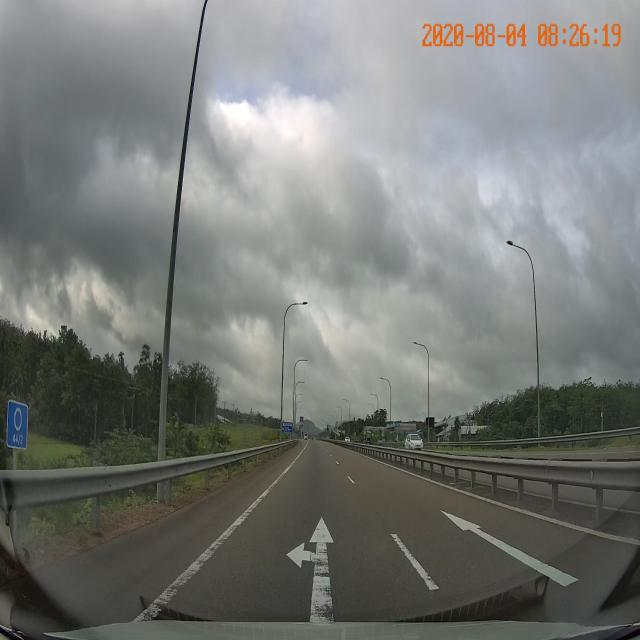Strelka vpered: (436, 507, 582, 589)
Strelka vpered - vlevo: (285, 514, 336, 621)
